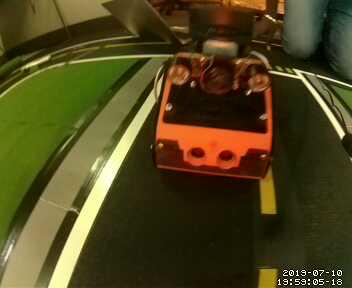pheeno: (153, 8, 273, 185)
